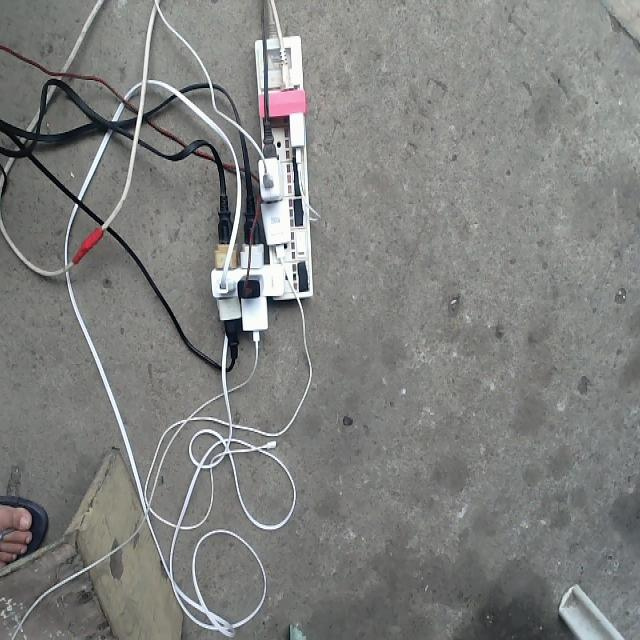-: (207, 32, 313, 359)
